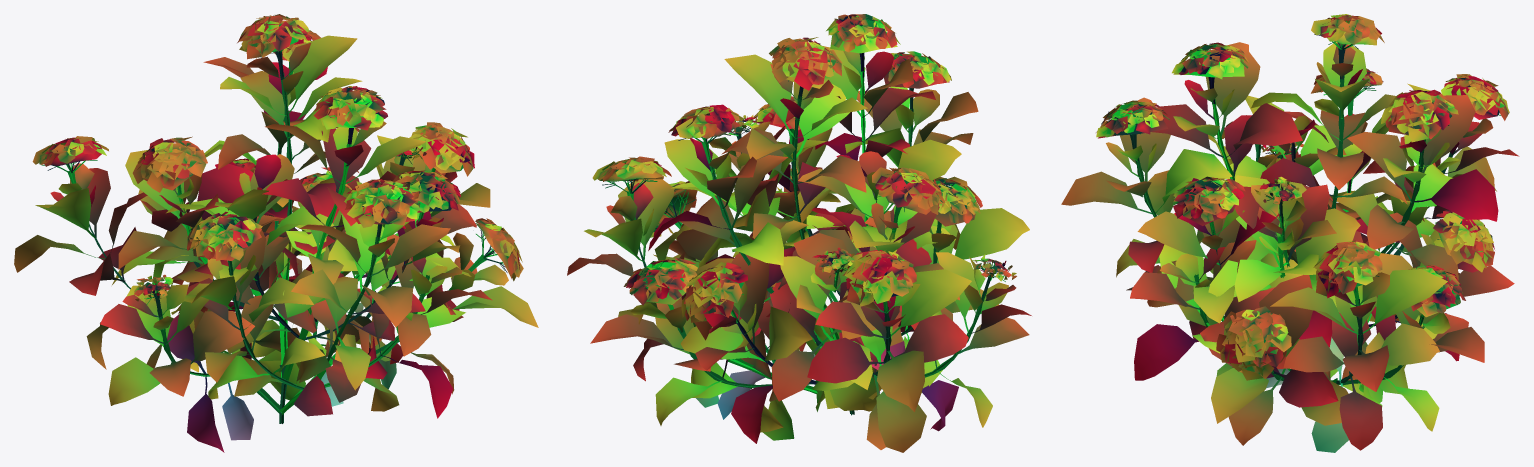
File: Bigleaf_Hydrangea_vgztealha_Mid_vgztealha_VarC_LOD1.fbx
3 views of the same model, side by side, from view 1: azimuth 30°, elevation 25°; view 2: azimuth 150°, elevation 25°; view 3: azimuth 270°, elevation 25° (orthographic).
Parts seen in each view (by area): view 1: _bznh_VarC_LOD3; view 2: _bznh_VarC_LOD3; view 3: _bznh_VarC_LOD3.
Part boxes in pixels (x1,y1,x2,y2): _bznh_VarC_LOD3: [14, 14, 538, 452]; _bznh_VarC_LOD3: [567, 14, 1031, 452]; _bznh_VarC_LOD3: [1061, 14, 1519, 452].
Bounding box in the file's own units: 153 × 136 × 146.
